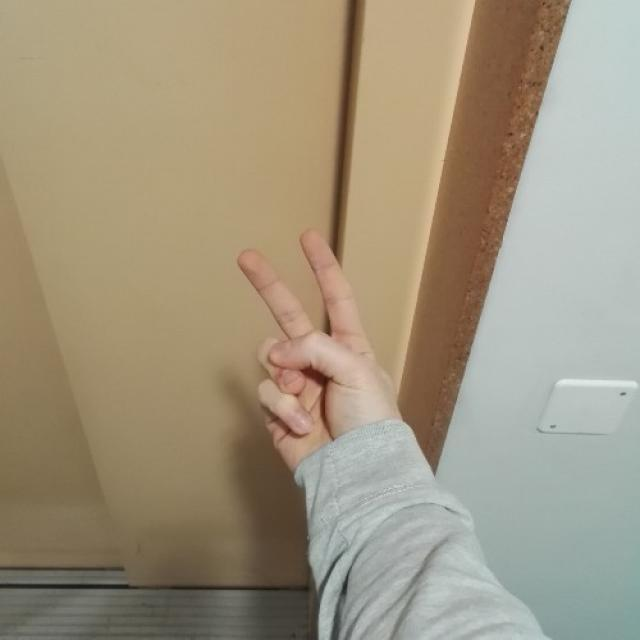scissors: (232, 222, 392, 457)
